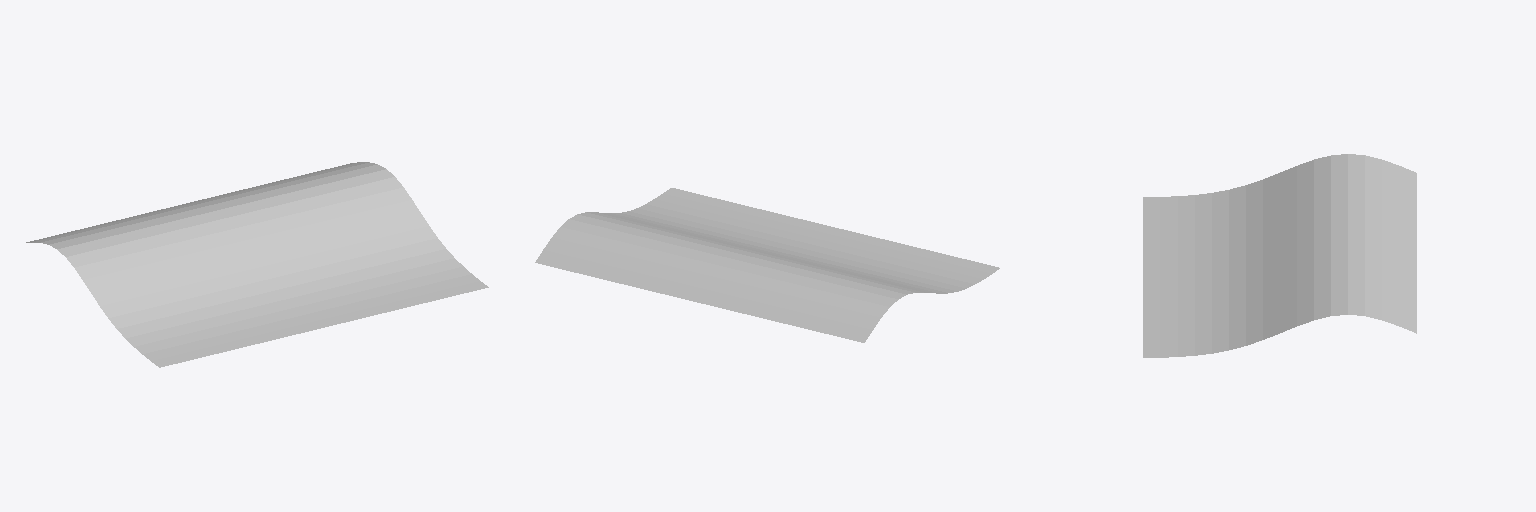
Rendered from Olas2.obj.
3 renders of one model, left to right at view 1: azimuth 30°, elevation 25°; view 2: azimuth 150°, elevation 25°; view 3: azimuth 270°, elevation 25°, orthographic.
Visible parts, largest first — view 1: Plane; view 2: Plane; view 3: Plane.
Boxes of the visible parts, <box> form: Plane: <box>26,162,488,367</box>; Plane: <box>535,188,999,342</box>; Plane: <box>1143,154,1416,357</box>.
Size of the model in its own units: 13.82 by 1.74 by 9.91.